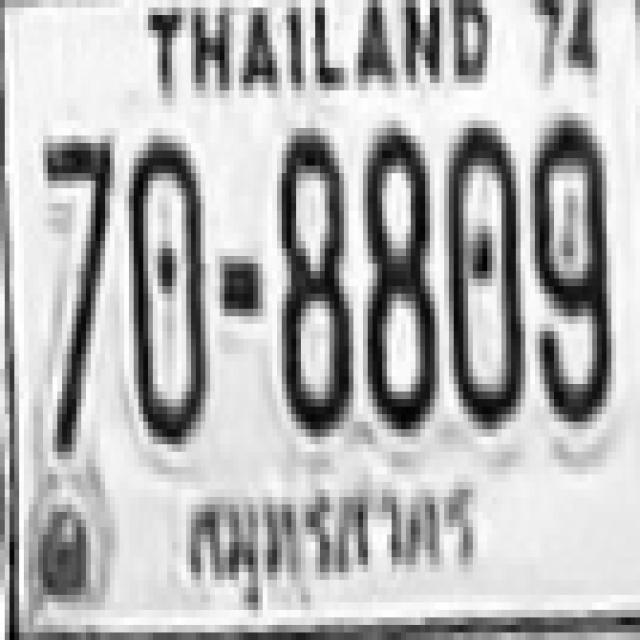0: (129, 132, 210, 440), (444, 120, 521, 422)
7: (38, 136, 115, 452), (38, 135, 115, 354)
8: (277, 124, 349, 433), (363, 124, 435, 426)
9: (530, 113, 607, 422)
SKN: (159, 461, 490, 609)
